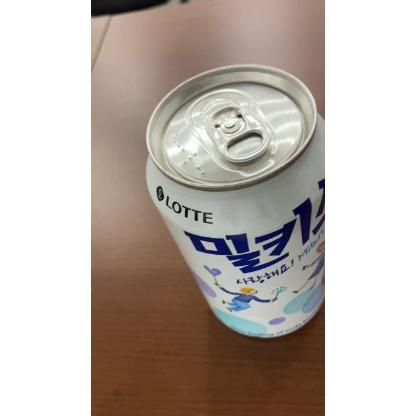Can: (141, 60, 325, 342)
